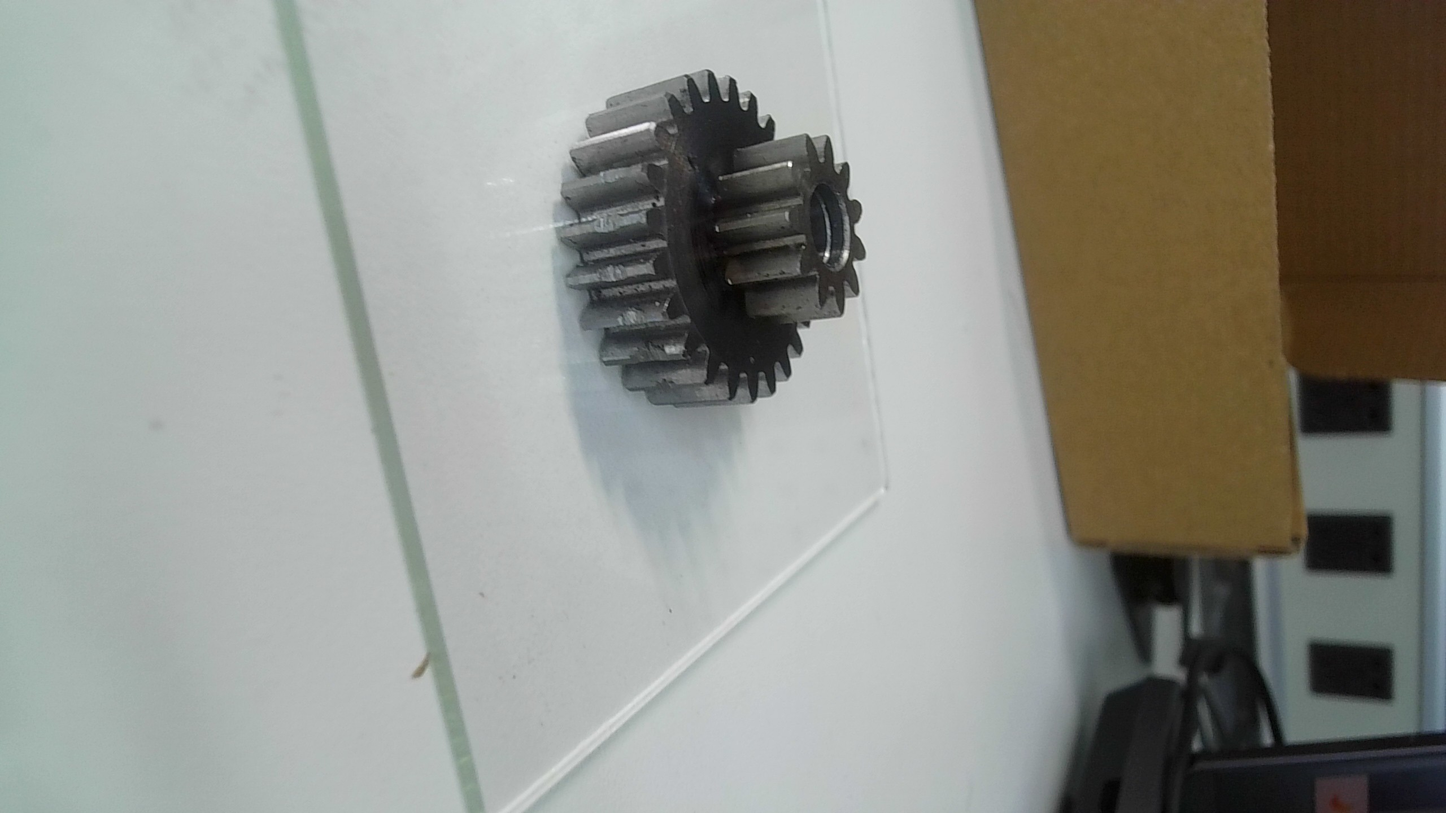gear: (555, 60, 877, 412)
